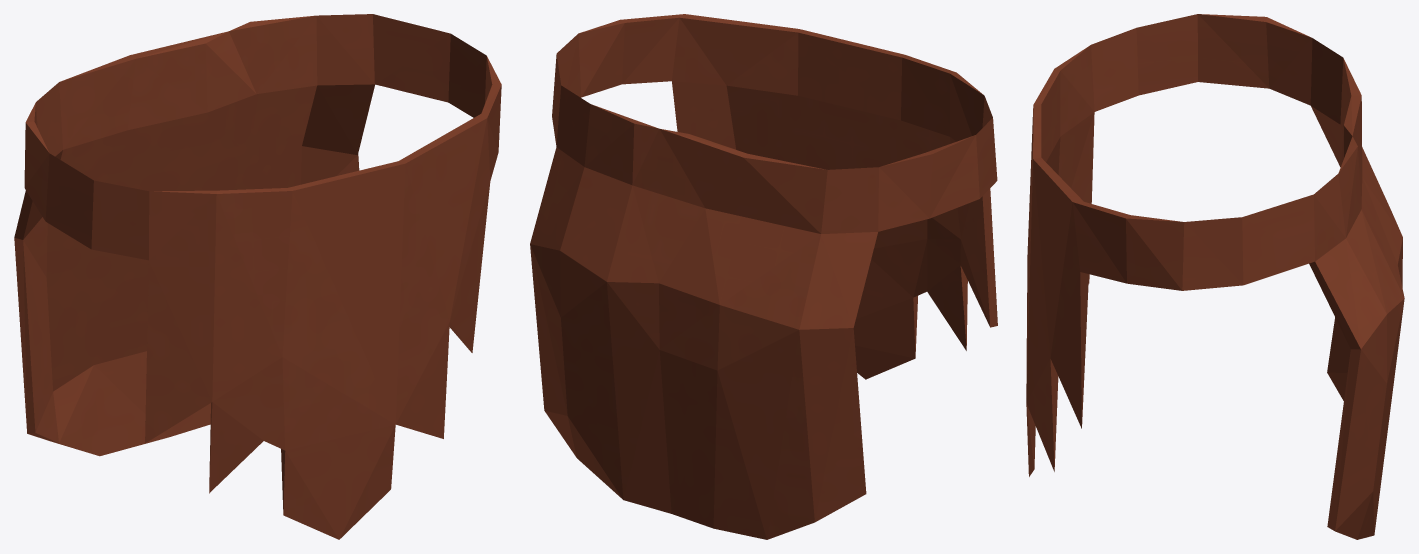
File: Taparrabo.fbx
3 renders of one model, left to right at view 1: azimuth 30°, elevation 25°; view 2: azimuth 150°, elevation 25°; view 3: azimuth 270°, elevation 25°, orthographic. The views are drawn at different scales.
Visible parts, largest first — view 1: Tapa; view 2: Tapa; view 3: Tapa.
Part boxes in pixels (x1=…): Tapa: x1=14, y1=14, x2=501, y2=539; Tapa: x1=530, y1=14, x2=997, y2=539; Tapa: x1=1026, y1=14, x2=1404, y2=539.
Size of the model in its own units: 28.3 by 24.71 by 21.51.
1 material, 1 textured.
